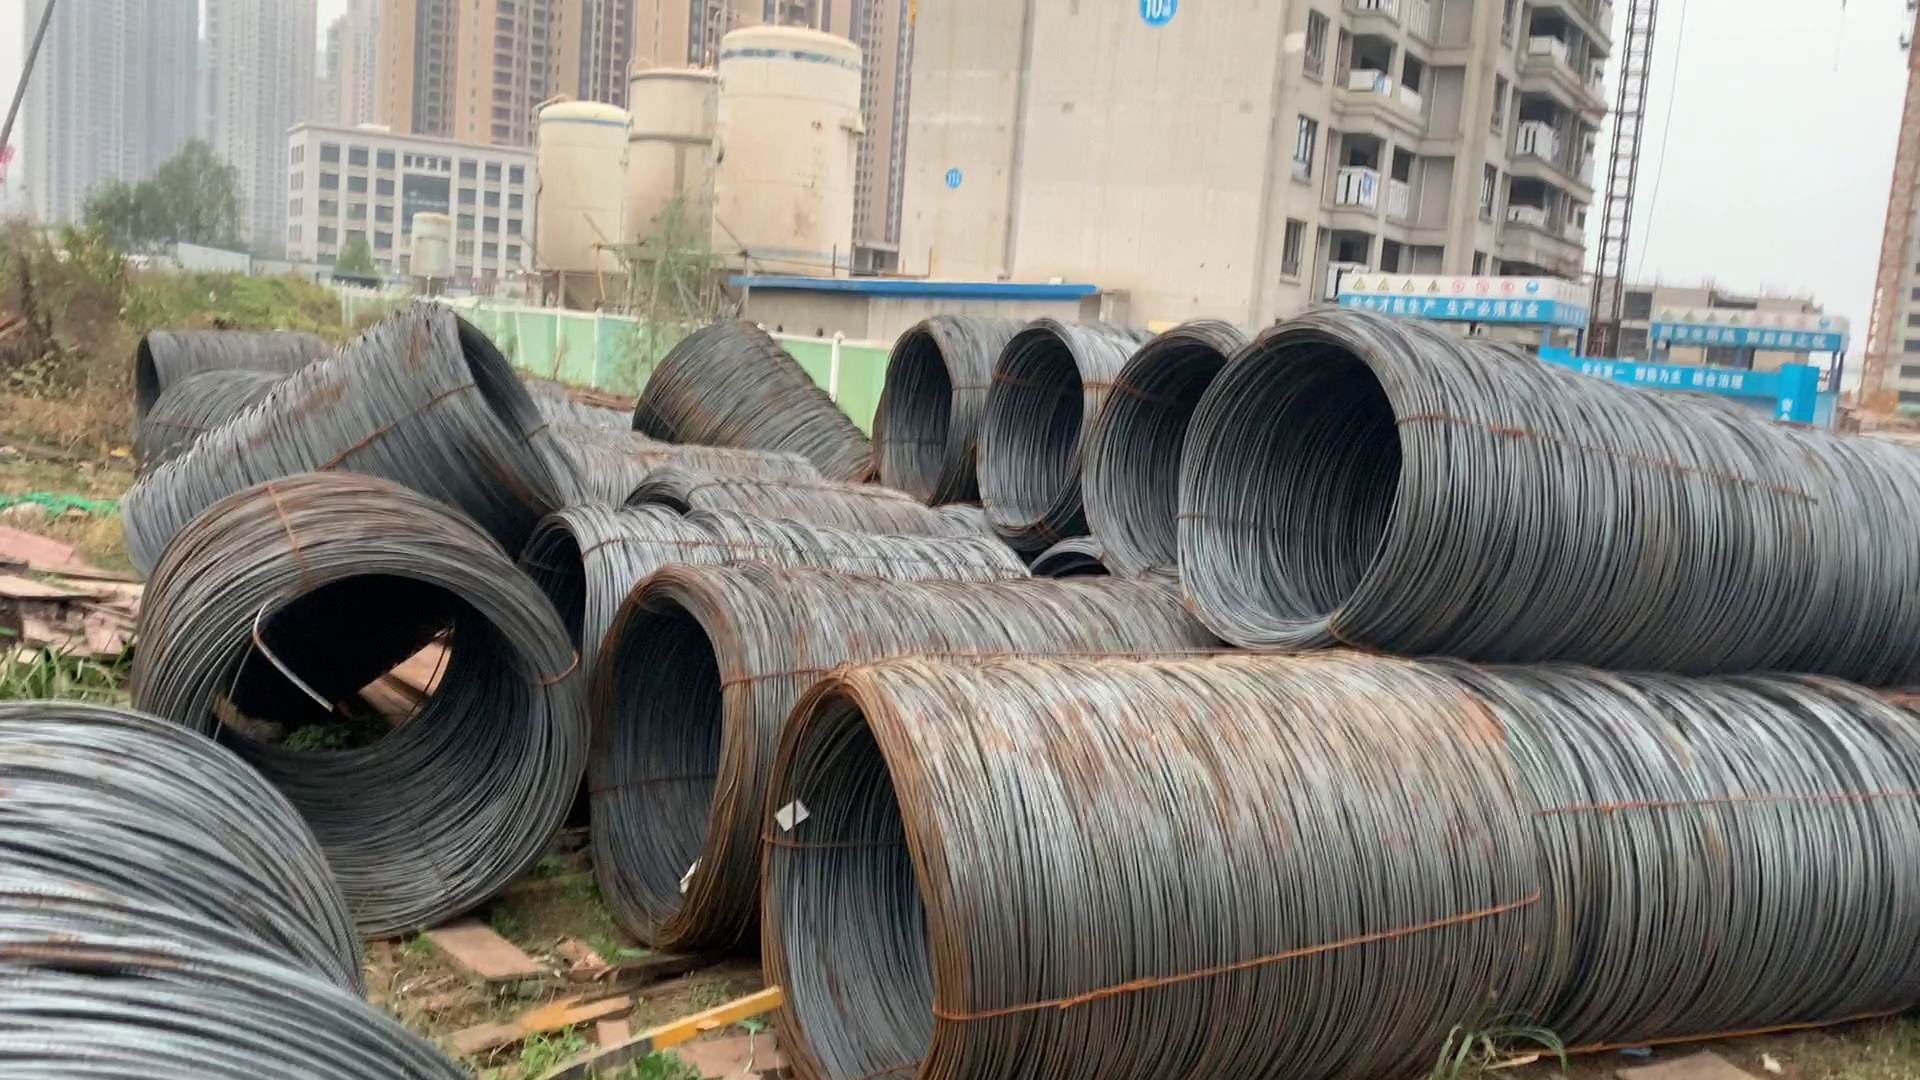coil: (171, 563, 589, 957), (765, 669, 965, 1077), (1182, 324, 1424, 657), (596, 568, 742, 960), (1088, 320, 1232, 588), (433, 295, 596, 529), (977, 320, 1093, 546), (874, 324, 971, 510), (127, 328, 174, 479)
